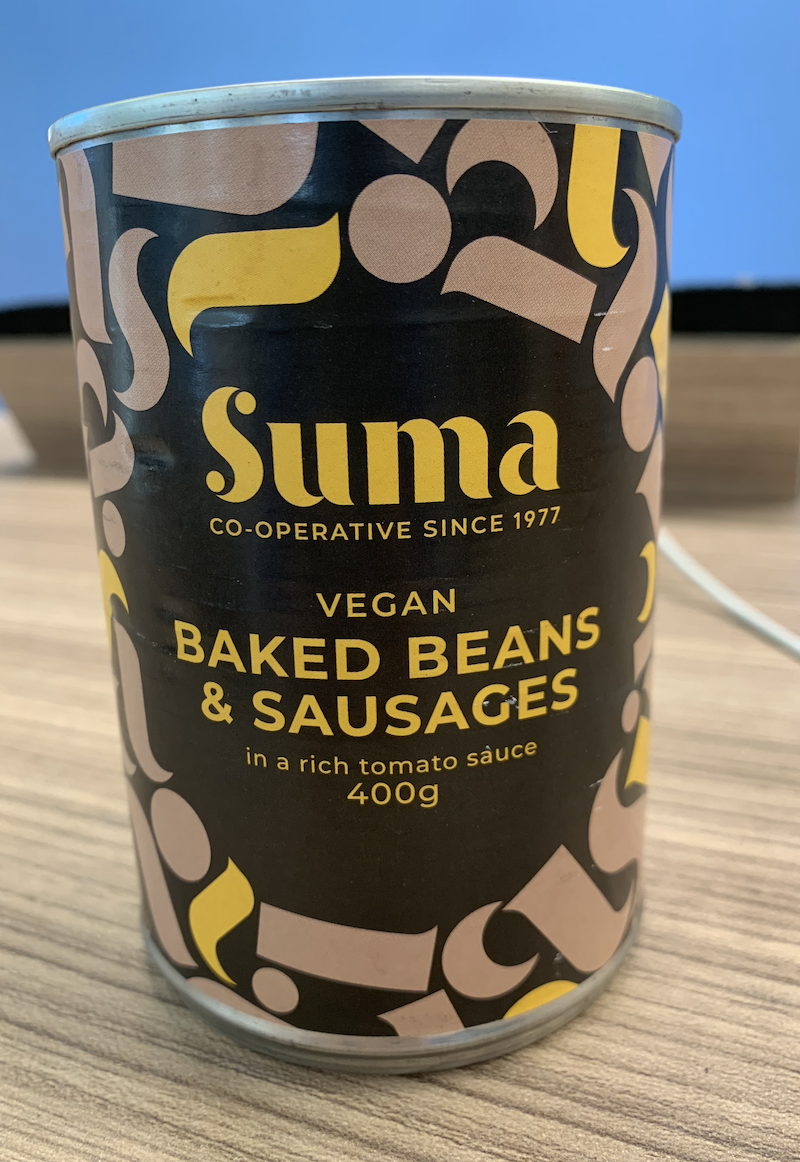Baked beans_450g: (121, 158, 646, 1015)
